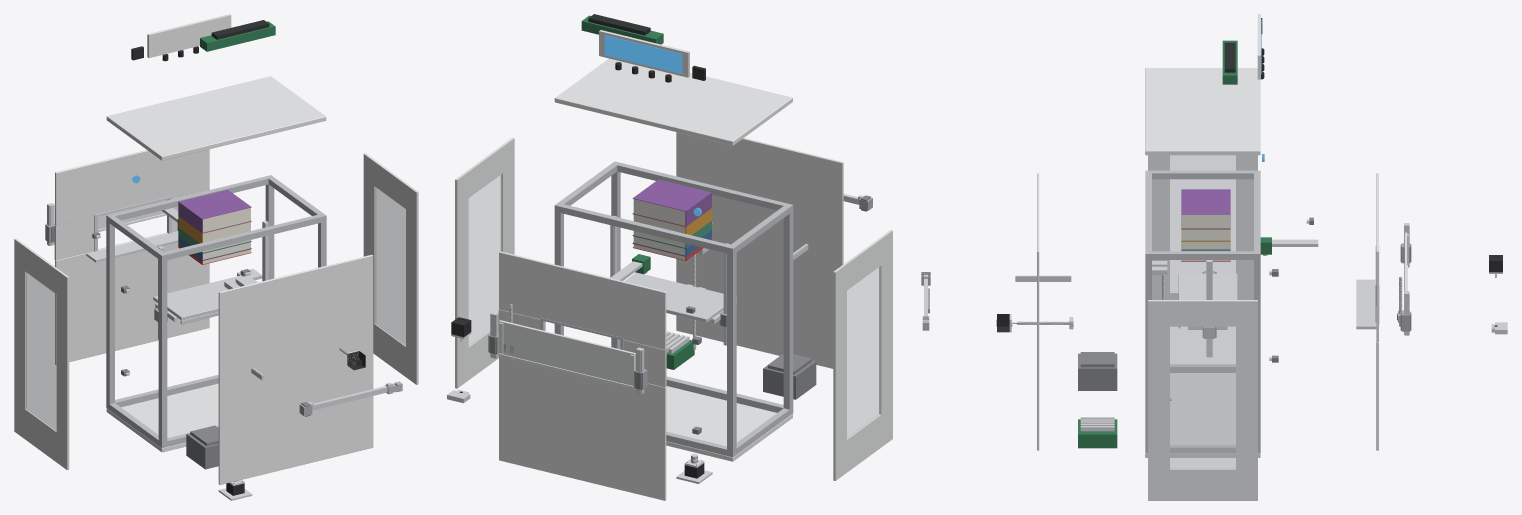
Rendered from smartbookshelf_v1_exploded.glb.
3 views of the same model, side by side, from view 1: azimuth 30°, elevation 25°; view 2: azimuth 150°, elevation 25°; view 3: azimuth 270°, elevation 25° (orthographic). The views are drawn at different scales.
Parts seen in each view (by area): view 1: EXP_BackPanel, EXP_Cabinet, EXP_FrontPanel_Lower, EXP_TopPanel, EXP_FrontPanel_Upper, EXP_SidePanel_Left, EXP_SidePanel_Right, EXP_SideGlass_Left, EXP_SideGlass_Right, EXP_Cabinet_BasePlate, EXP_LiftPlatform, EXP_ControlPanel (+10 smaller); view 2: EXP_BackPanel, EXP_FrontPanel_Lower, EXP_Cabinet, EXP_TopPanel, EXP_FrontPanel_Upper, EXP_SidePanel_Left, EXP_SidePanel_Right, EXP_SideGlass_Left, EXP_Middle_Layer, EXP_SideGlass_Right, EXP_Cabinet_BasePlate, EXP_LiftPlatform (+8 smaller); view 3: EXP_SidePanel_Right, EXP_TopPanel, EXP_SideGlass_Right, EXP_Cabinet, EXP_Cabinet_BasePlate, EXP_SidePanel_Left, EXP_SideGlass_Left, EXP_LiftPlatform, EXP_Electronics, EXP_Book_05, EXP_Port_Shelf, EXP_BackPanel (+2 smaller).
Boxes of the visible parts, x1=… form: EXP_BackPanel: x1=218, y1=254, x2=373, y2=484; EXP_Cabinet: x1=106, y1=175, x2=326, y2=448; EXP_FrontPanel_Lower: x1=55, y1=232, x2=209, y2=364; EXP_TopPanel: x1=106, y1=76, x2=326, y2=160; EXP_FrontPanel_Upper: x1=55, y1=149, x2=209, y2=225; EXP_SidePanel_Left: x1=14, y1=238, x2=69, y2=470; EXP_SidePanel_Right: x1=363, y1=153, x2=418, y2=384; EXP_SideGlass_Left: x1=25, y1=272, x2=56, y2=431; EXP_SideGlass_Right: x1=374, y1=187, x2=405, y2=345; EXP_Cabinet_BasePlate: x1=106, y1=383, x2=218, y2=452; EXP_LiftPlatform: x1=153, y1=275, x2=257, y2=324; EXP_ControlPanel: x1=147, y1=14, x2=231, y2=57; EXP_BackPanel: x1=676, y1=132, x2=843, y2=368; EXP_FrontPanel_Lower: x1=499, y1=356, x2=666, y2=500; EXP_Cabinet: x1=554, y1=161, x2=793, y2=457; EXP_TopPanel: x1=554, y1=58, x2=792, y2=145; EXP_FrontPanel_Upper: x1=499, y1=251, x2=666, y2=349; EXP_SidePanel_Left: x1=833, y1=230, x2=892, y2=480; EXP_SidePanel_Right: x1=455, y1=137, x2=514, y2=388; EXP_SideGlass_Left: x1=847, y1=266, x2=880, y2=438; EXP_Middle_Layer: x1=498, y1=320, x2=635, y2=388; EXP_SideGlass_Right: x1=468, y1=174, x2=502, y2=346; EXP_Cabinet_BasePlate: x1=666, y1=386, x2=792, y2=461; EXP_LiftPlatform: x1=624, y1=272, x2=736, y2=323; EXP_SidePanel_Right: x1=1148, y1=300, x2=1257, y2=500; EXP_TopPanel: x1=1145, y1=68, x2=1260, y2=155; EXP_SideGlass_Right: x1=1170, y1=326, x2=1235, y2=469; EXP_Cabinet: x1=1145, y1=170, x2=1260, y2=453; EXP_Cabinet_BasePlate: x1=1145, y1=373, x2=1260, y2=457; EXP_SidePanel_Left: x1=1148, y1=155, x2=1257, y2=299; EXP_SideGlass_Left: x1=1170, y1=155, x2=1235, y2=292; EXP_LiftPlatform: x1=1178, y1=273, x2=1237, y2=329; EXP_Electronics: x1=1078, y1=352, x2=1117, y2=390; EXP_Book_05: x1=1181, y1=189, x2=1230, y2=229; EXP_Port_Shelf: x1=1356, y1=279, x2=1376, y2=329; EXP_BackPanel: x1=1037, y1=173, x2=1039, y2=450.
Bounding box in the file's own units: 1280 × 1515 × 1782.
